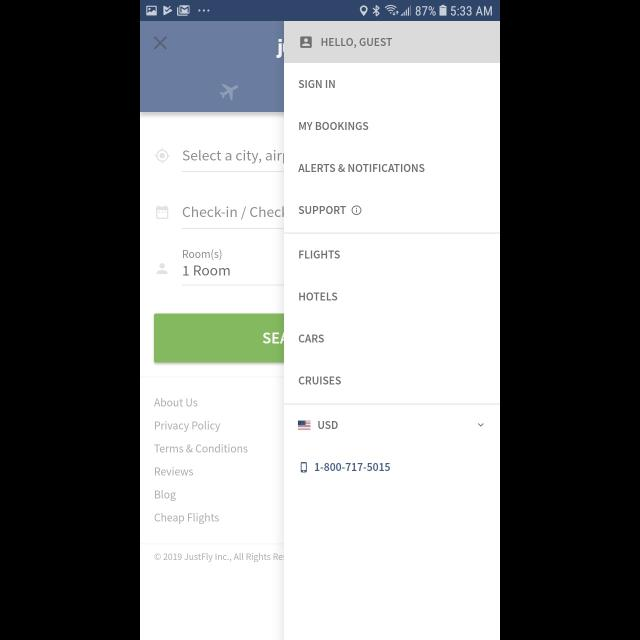icon: (300, 36, 312, 48), (352, 205, 362, 215), (478, 423, 484, 427)
image: (298, 421, 310, 431), (300, 462, 308, 473)
panel: (284, 22, 500, 638)
text: (298, 164, 426, 172), (316, 462, 390, 472), (322, 39, 392, 49), (299, 122, 369, 130), (298, 292, 338, 302), (298, 206, 346, 214), (298, 376, 342, 384), (300, 250, 340, 258), (298, 80, 336, 88), (299, 333, 325, 342), (318, 420, 338, 430)
uppertaskbar: (140, 1, 500, 22)
